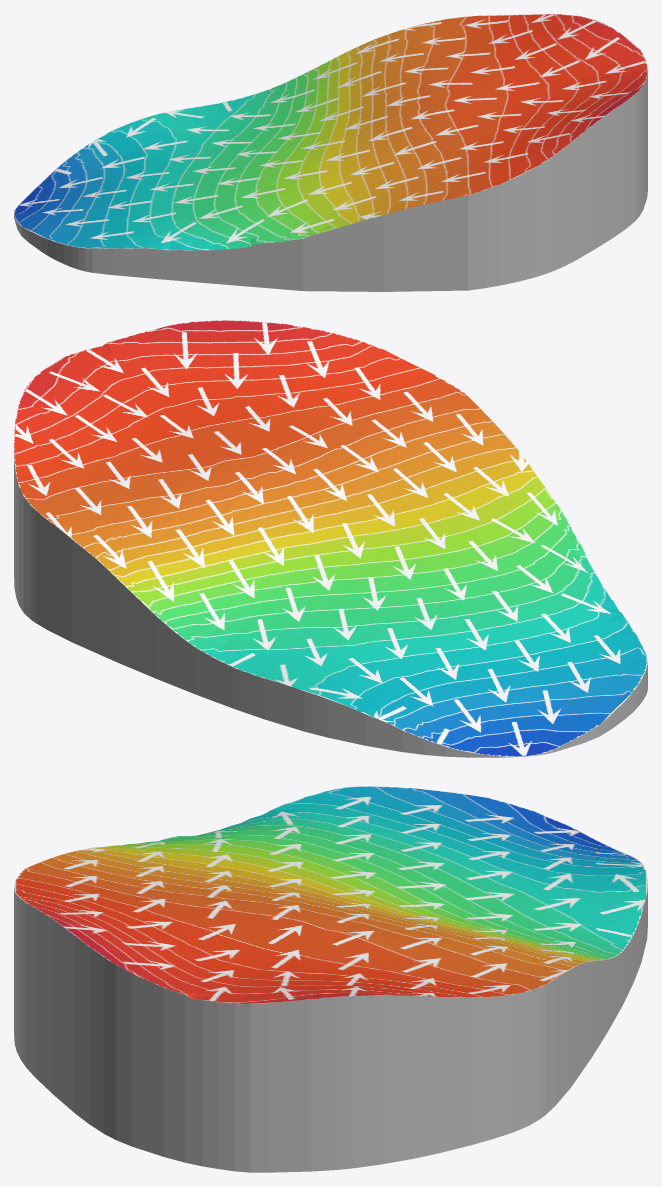
3 renders of one model, top to bottom at view 1: azimuth 30°, elevation 25°; view 2: azimuth 150°, elevation 25°; view 3: azimuth 270°, elevation 25°, orthographic. The views are drawn at different scales.
Size of the model in its own units: 6.29 by 1.44 by 4.66.
2 materials, 1 textured.
